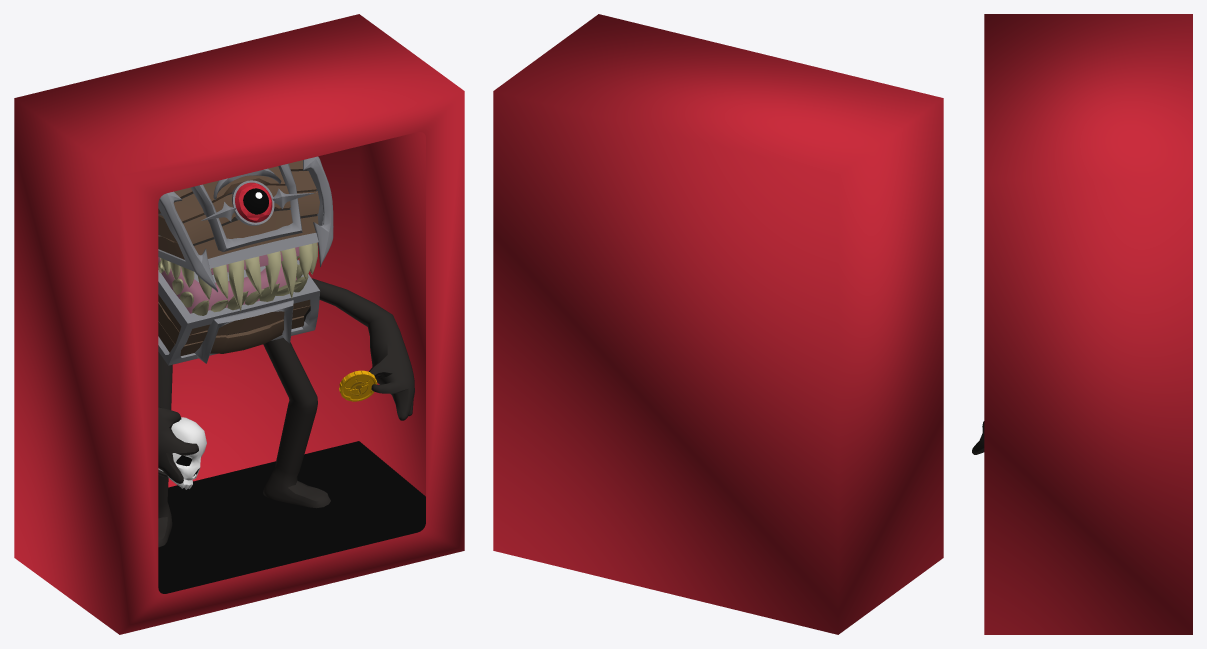
Rendered from 12_Mimic.gltf.
3 views of the same model, side by side, from view 1: azimuth 30°, elevation 25°; view 2: azimuth 150°, elevation 25°; view 3: azimuth 270°, elevation 25° (orthographic).
Parts seen in each view (by area): view 1: 12_Mimic_bg, 12_Mimic; view 2: 12_Mimic_bg; view 3: 12_Mimic_bg.
Boxes of the visible parts, x1,y1,x2,y2 form: 12_Mimic_bg: [14, 14, 464, 634]; 12_Mimic: [158, 156, 425, 593]; 12_Mimic_bg: [493, 14, 943, 634]; 12_Mimic_bg: [984, 14, 1192, 634].
Bounding box in the file's own units: 2.76 × 3.51 × 1.55.
Materials: 2 (2 with a texture image).
